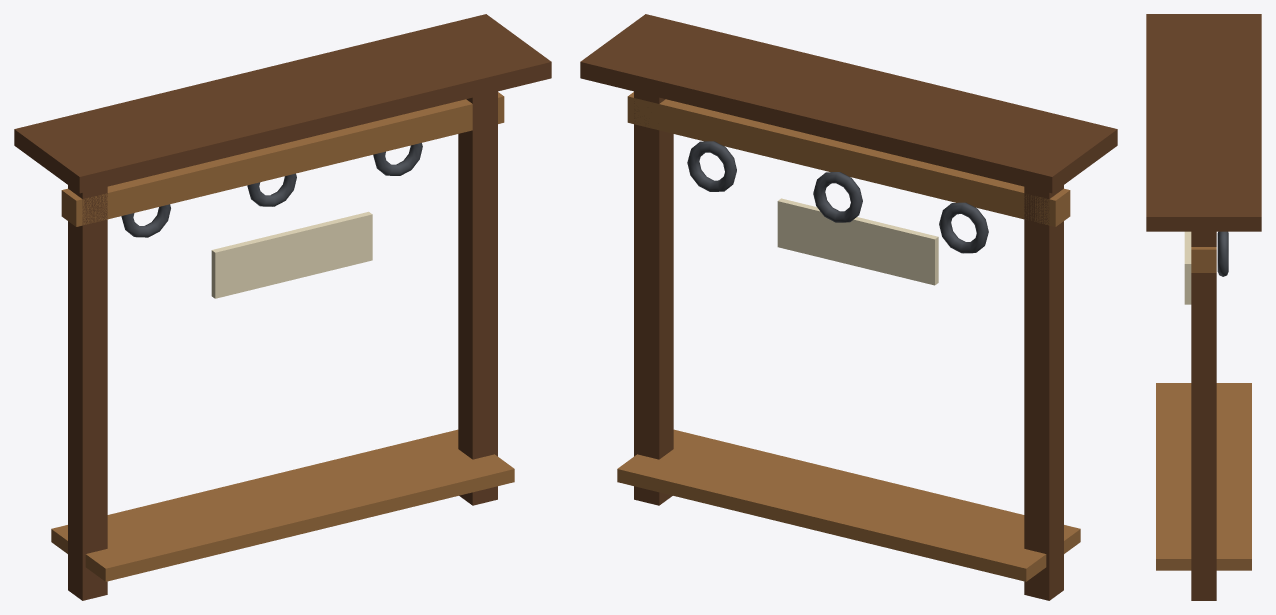
The model's file is BucketRack.glb.
3 views of the same model, side by side, from view 1: azimuth 30°, elevation 25°; view 2: azimuth 150°, elevation 25°; view 3: azimuth 270°, elevation 25° (orthographic). The views are drawn at different scales.
Visible parts, largest first — view 1: BucketRack; view 2: BucketRack; view 3: BucketRack.
Part boxes in pixels (x1,y1,x2,y2): BucketRack: (14,14,551,600); BucketRack: (580,14,1117,600); BucketRack: (1146,14,1261,600).
Bounding box in the file's own units: 1.5 × 1.37 × 0.36.
